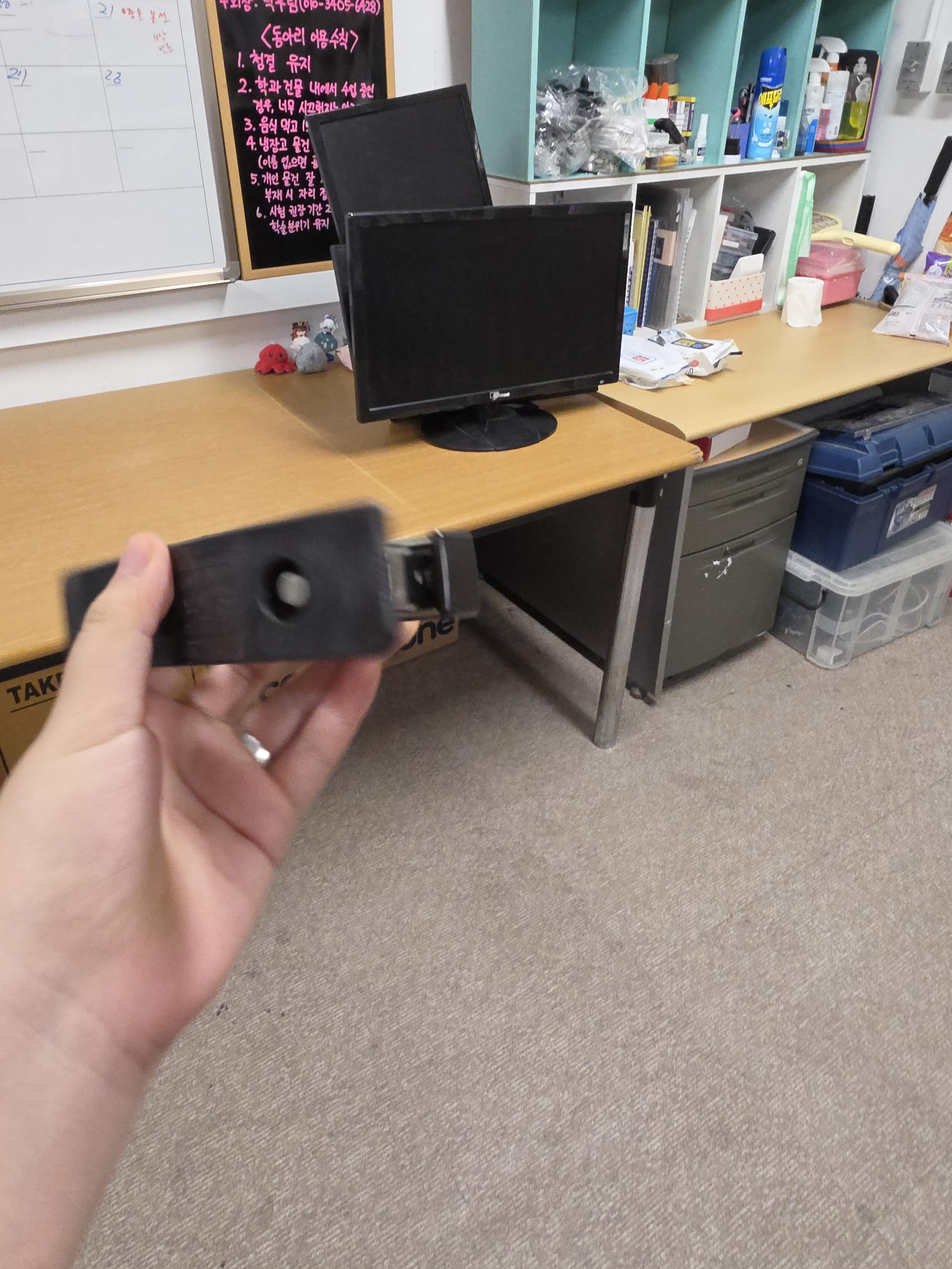stapler: (60, 497, 479, 668)
tissue: (786, 276, 824, 328)
